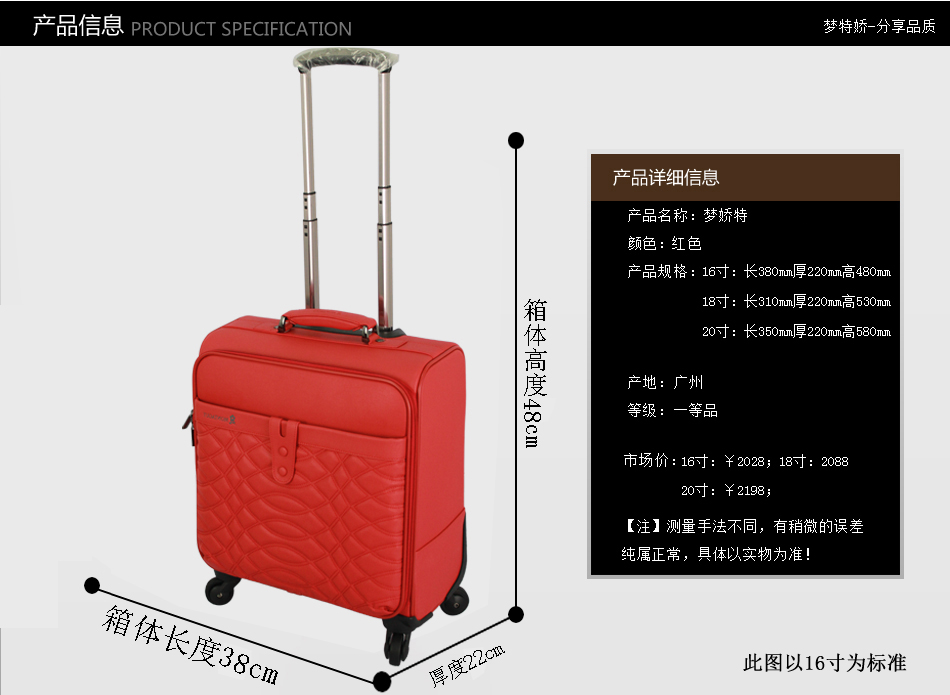luggage: (189, 54, 471, 663)
